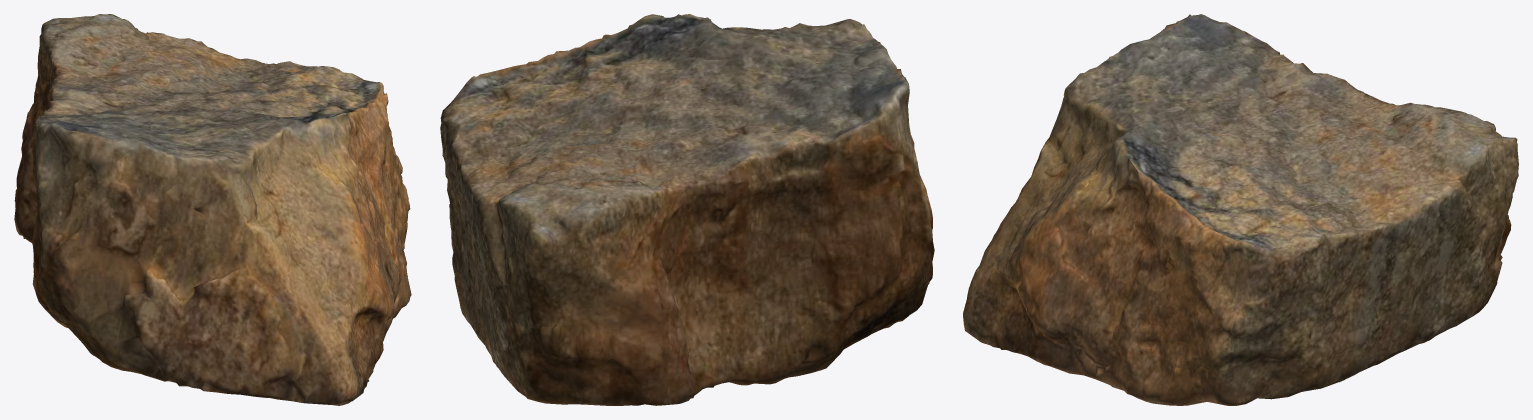
Rendered from namaqualand_boulder_03.glb.
3 renders of one model, left to right at view 1: azimuth 30°, elevation 25°; view 2: azimuth 150°, elevation 25°; view 3: azimuth 270°, elevation 25°, orthographic. The views are drawn at different scales.
Visible parts, largest first — view 1: boulder_03_LOD0; view 2: boulder_03_LOD0; view 3: boulder_03_LOD0.
Boxes of the visible parts, x1,y1,x2,y2 form: boulder_03_LOD0: [14, 14, 411, 405]; boulder_03_LOD0: [440, 14, 934, 405]; boulder_03_LOD0: [963, 14, 1518, 405].
Bounding box in the file's own units: 2.41 × 1.47 × 3.06.
Materials: 1 (1 with a texture image).
